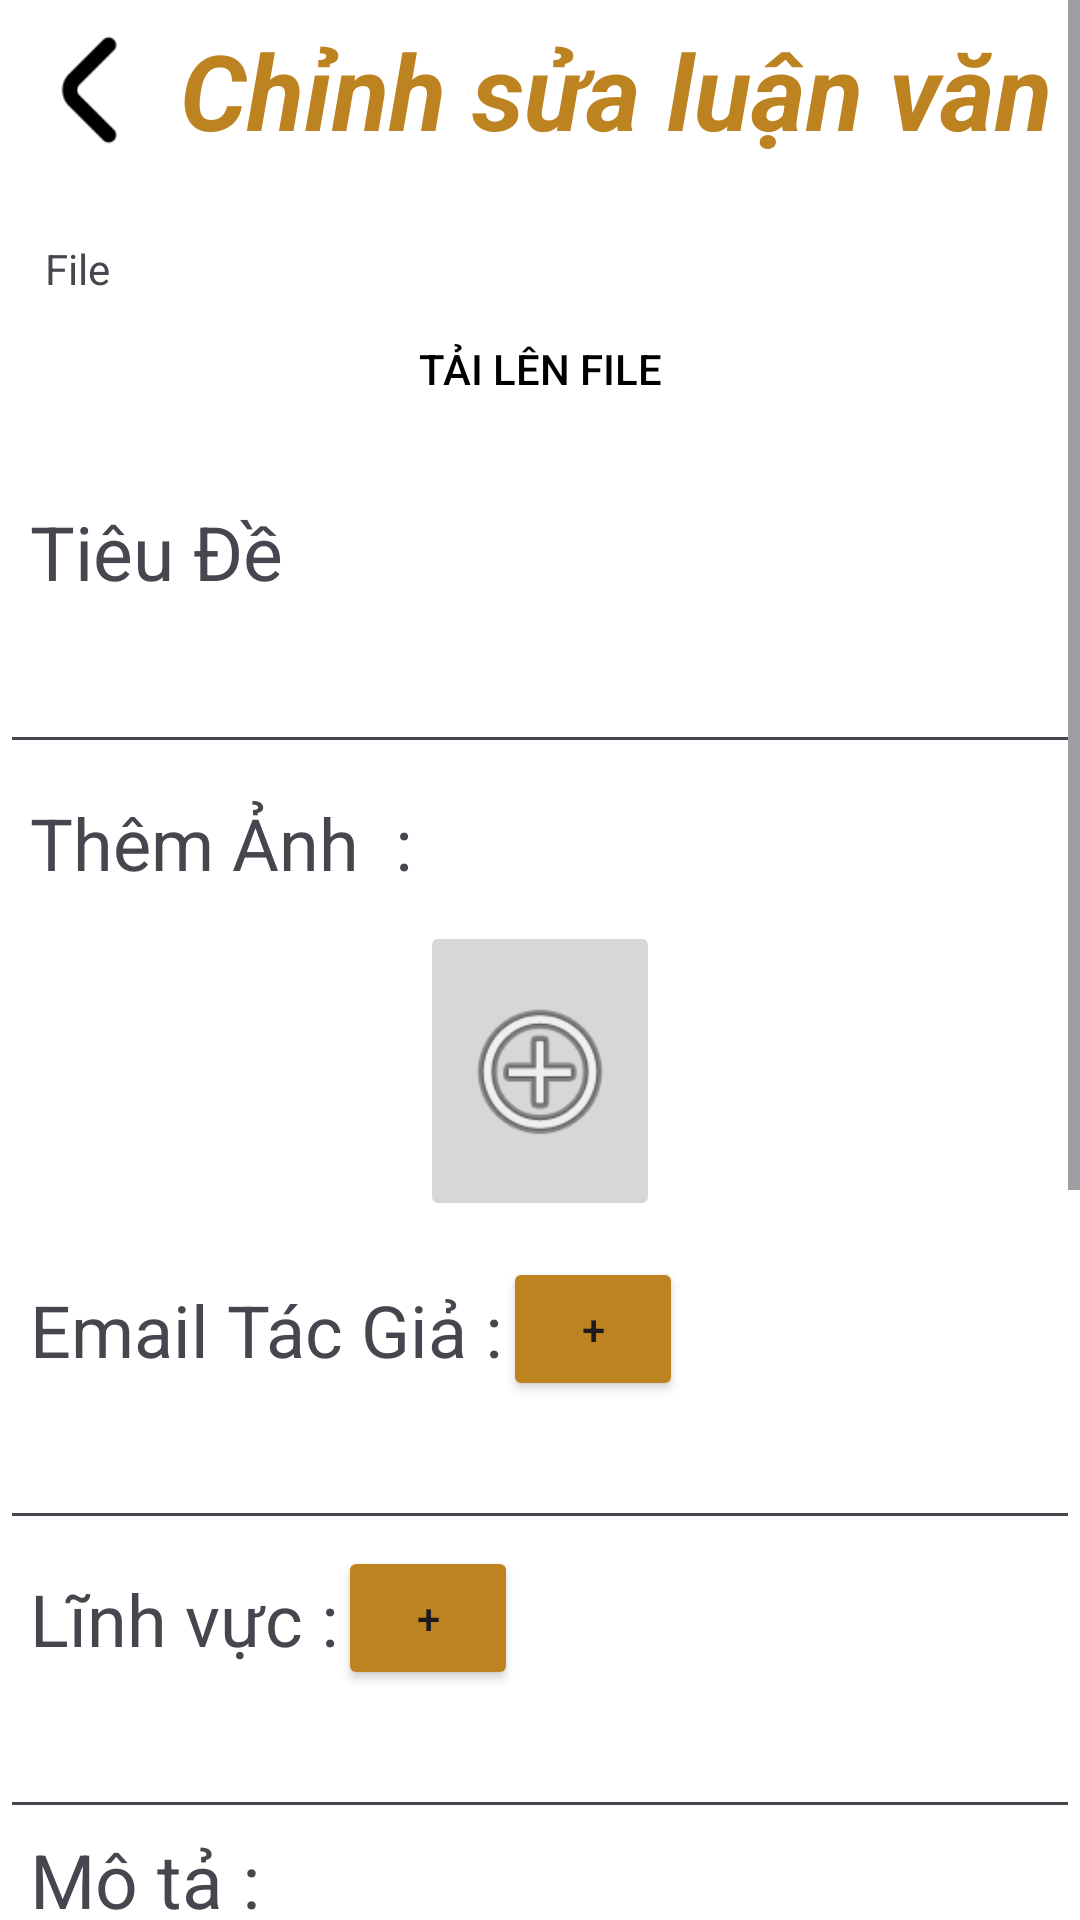

Where icons sit on this 1080x1920 app screen, as (x1, y1, x2, y2):
add: (432, 939, 648, 1203)
angle left: (61, 36, 117, 144)
